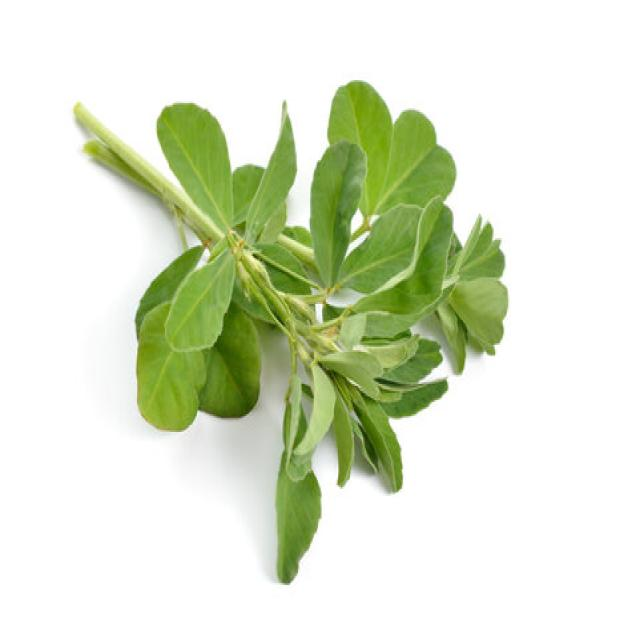Fenugreek: (121, 63, 501, 543)
